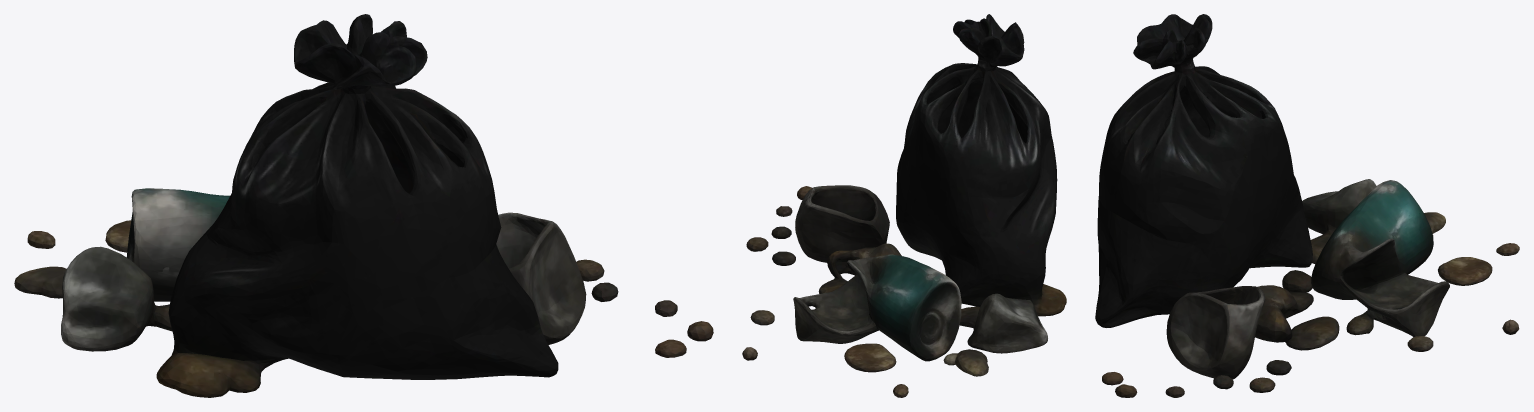
Rendered from trash_filth.glb.
3 renders of one model, left to right at view 1: azimuth 30°, elevation 25°; view 2: azimuth 150°, elevation 25°; view 3: azimuth 270°, elevation 25°, orthographic. The views are drawn at different scales.
Visible parts, largest first — view 1: geometry_0; view 2: geometry_0; view 3: geometry_0.
Part boxes in pixels (bbox=[...]): geometry_0: bbox=[14, 14, 713, 397]; geometry_0: bbox=[742, 14, 1066, 397]; geometry_0: bbox=[1095, 14, 1519, 397].
Size of the model in its own units: 1 by 0.708 by 0.9883.
Materials: 1 (1 with a texture image).
